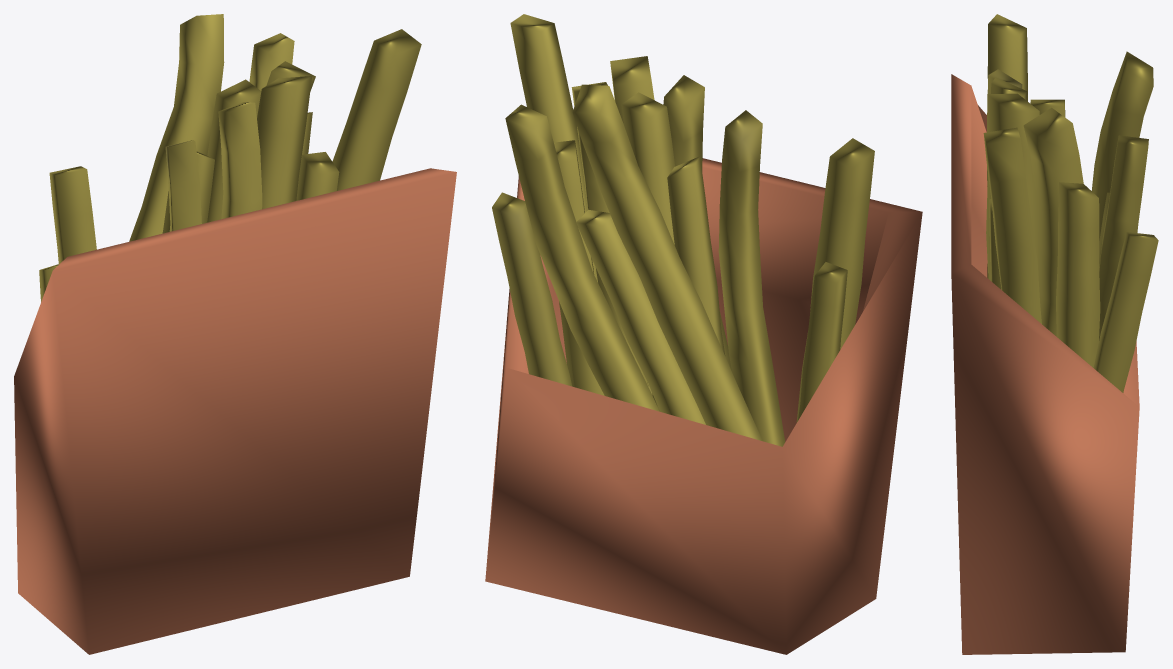
Rendered from fries.gltf.
3 views of the same model, side by side, from view 1: azimuth 30°, elevation 25°; view 2: azimuth 150°, elevation 25°; view 3: azimuth 270°, elevation 25° (orthographic). The views are drawn at different scales.
Parts seen in each view (by area): view 1: Cube.009, Cube.015, Cube.016, Cube.019, Cube.020, Cube.021, Cube.038, Cube.013, Cube.023, Cube.018, Cube.014; view 2: Cube.009, Cube.015, Cube.018, Cube.038, Cube.037, Cube.017, Cube.021, Cube.016, Cube.014, Cube.059, Cube.013, Cube.020 (+3 smaller); view 3: Cube.009, Cube.022, Cube.016, Cube.010, Cube.017, Cube.018, Cube.015, Cube.019, Cube.021, Cube.023, Cube.013, Cube.020 (+1 smaller).
Part boxes in pixels (x1=…): Cube.009: x1=14, y1=168, x2=456, y2=654; Cube.015: x1=129, y1=14, x2=224, y2=241; Cube.016: x1=332, y1=29, x2=421, y2=190; Cube.019: x1=257, y1=76, x2=312, y2=209; Cube.020: x1=218, y1=102, x2=262, y2=219; Cube.021: x1=49, y1=166, x2=96, y2=264; Cube.038: x1=165, y1=140, x2=201, y2=231; Cube.013: x1=207, y1=79, x2=261, y2=222; Cube.023: x1=296, y1=152, x2=339, y2=200; Cube.018: x1=249, y1=33, x2=294, y2=90; Cube.014: x1=162, y1=151, x2=214, y2=233; Cube.009: x1=485, y1=158, x2=922, y2=654; Cube.015: x1=572, y1=84, x2=762, y2=441; Cube.018: x1=505, y1=104, x2=659, y2=411; Cube.038: x1=718, y1=110, x2=785, y2=446; Cube.037: x1=576, y1=209, x2=705, y2=424; Cube.017: x1=492, y1=192, x2=572, y2=386; Cube.021: x1=796, y1=138, x2=874, y2=422; Cube.016: x1=510, y1=14, x2=597, y2=386; Cube.014: x1=667, y1=156, x2=725, y2=355; Cube.059: x1=798, y1=262, x2=847, y2=420; Cube.013: x1=621, y1=92, x2=674, y2=410; Cube.020: x1=663, y1=75, x2=731, y2=371; Cube.009: x1=951, y1=74, x2=1139, y2=654; Cube.022: x1=1056, y1=182, x2=1100, y2=367; Cube.016: x1=983, y1=127, x2=1041, y2=323; Cube.010: x1=1023, y1=107, x2=1083, y2=336; Cube.017: x1=1093, y1=232, x2=1158, y2=392; Cube.018: x1=1099, y1=135, x2=1148, y2=340; Cube.015: x1=1091, y1=51, x2=1153, y2=240; Cube.019: x1=986, y1=93, x2=1039, y2=280; Cube.021: x1=987, y1=14, x2=1027, y2=278; Cube.023: x1=989, y1=199, x2=1001, y2=289; Cube.013: x1=1030, y1=99, x2=1065, y2=117; Cube.020: x1=991, y1=77, x2=1027, y2=100.
Bounding box in the file's own units: 1.11 × 1.4 × 0.4898.
